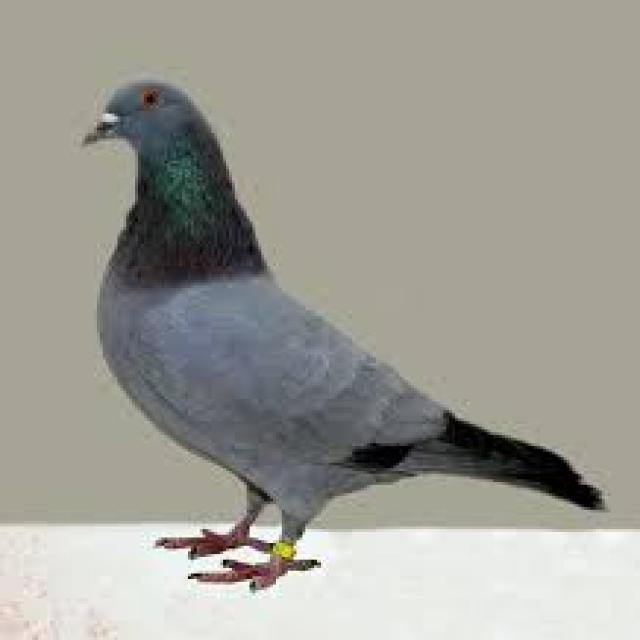pigeon: (65, 51, 607, 595)
